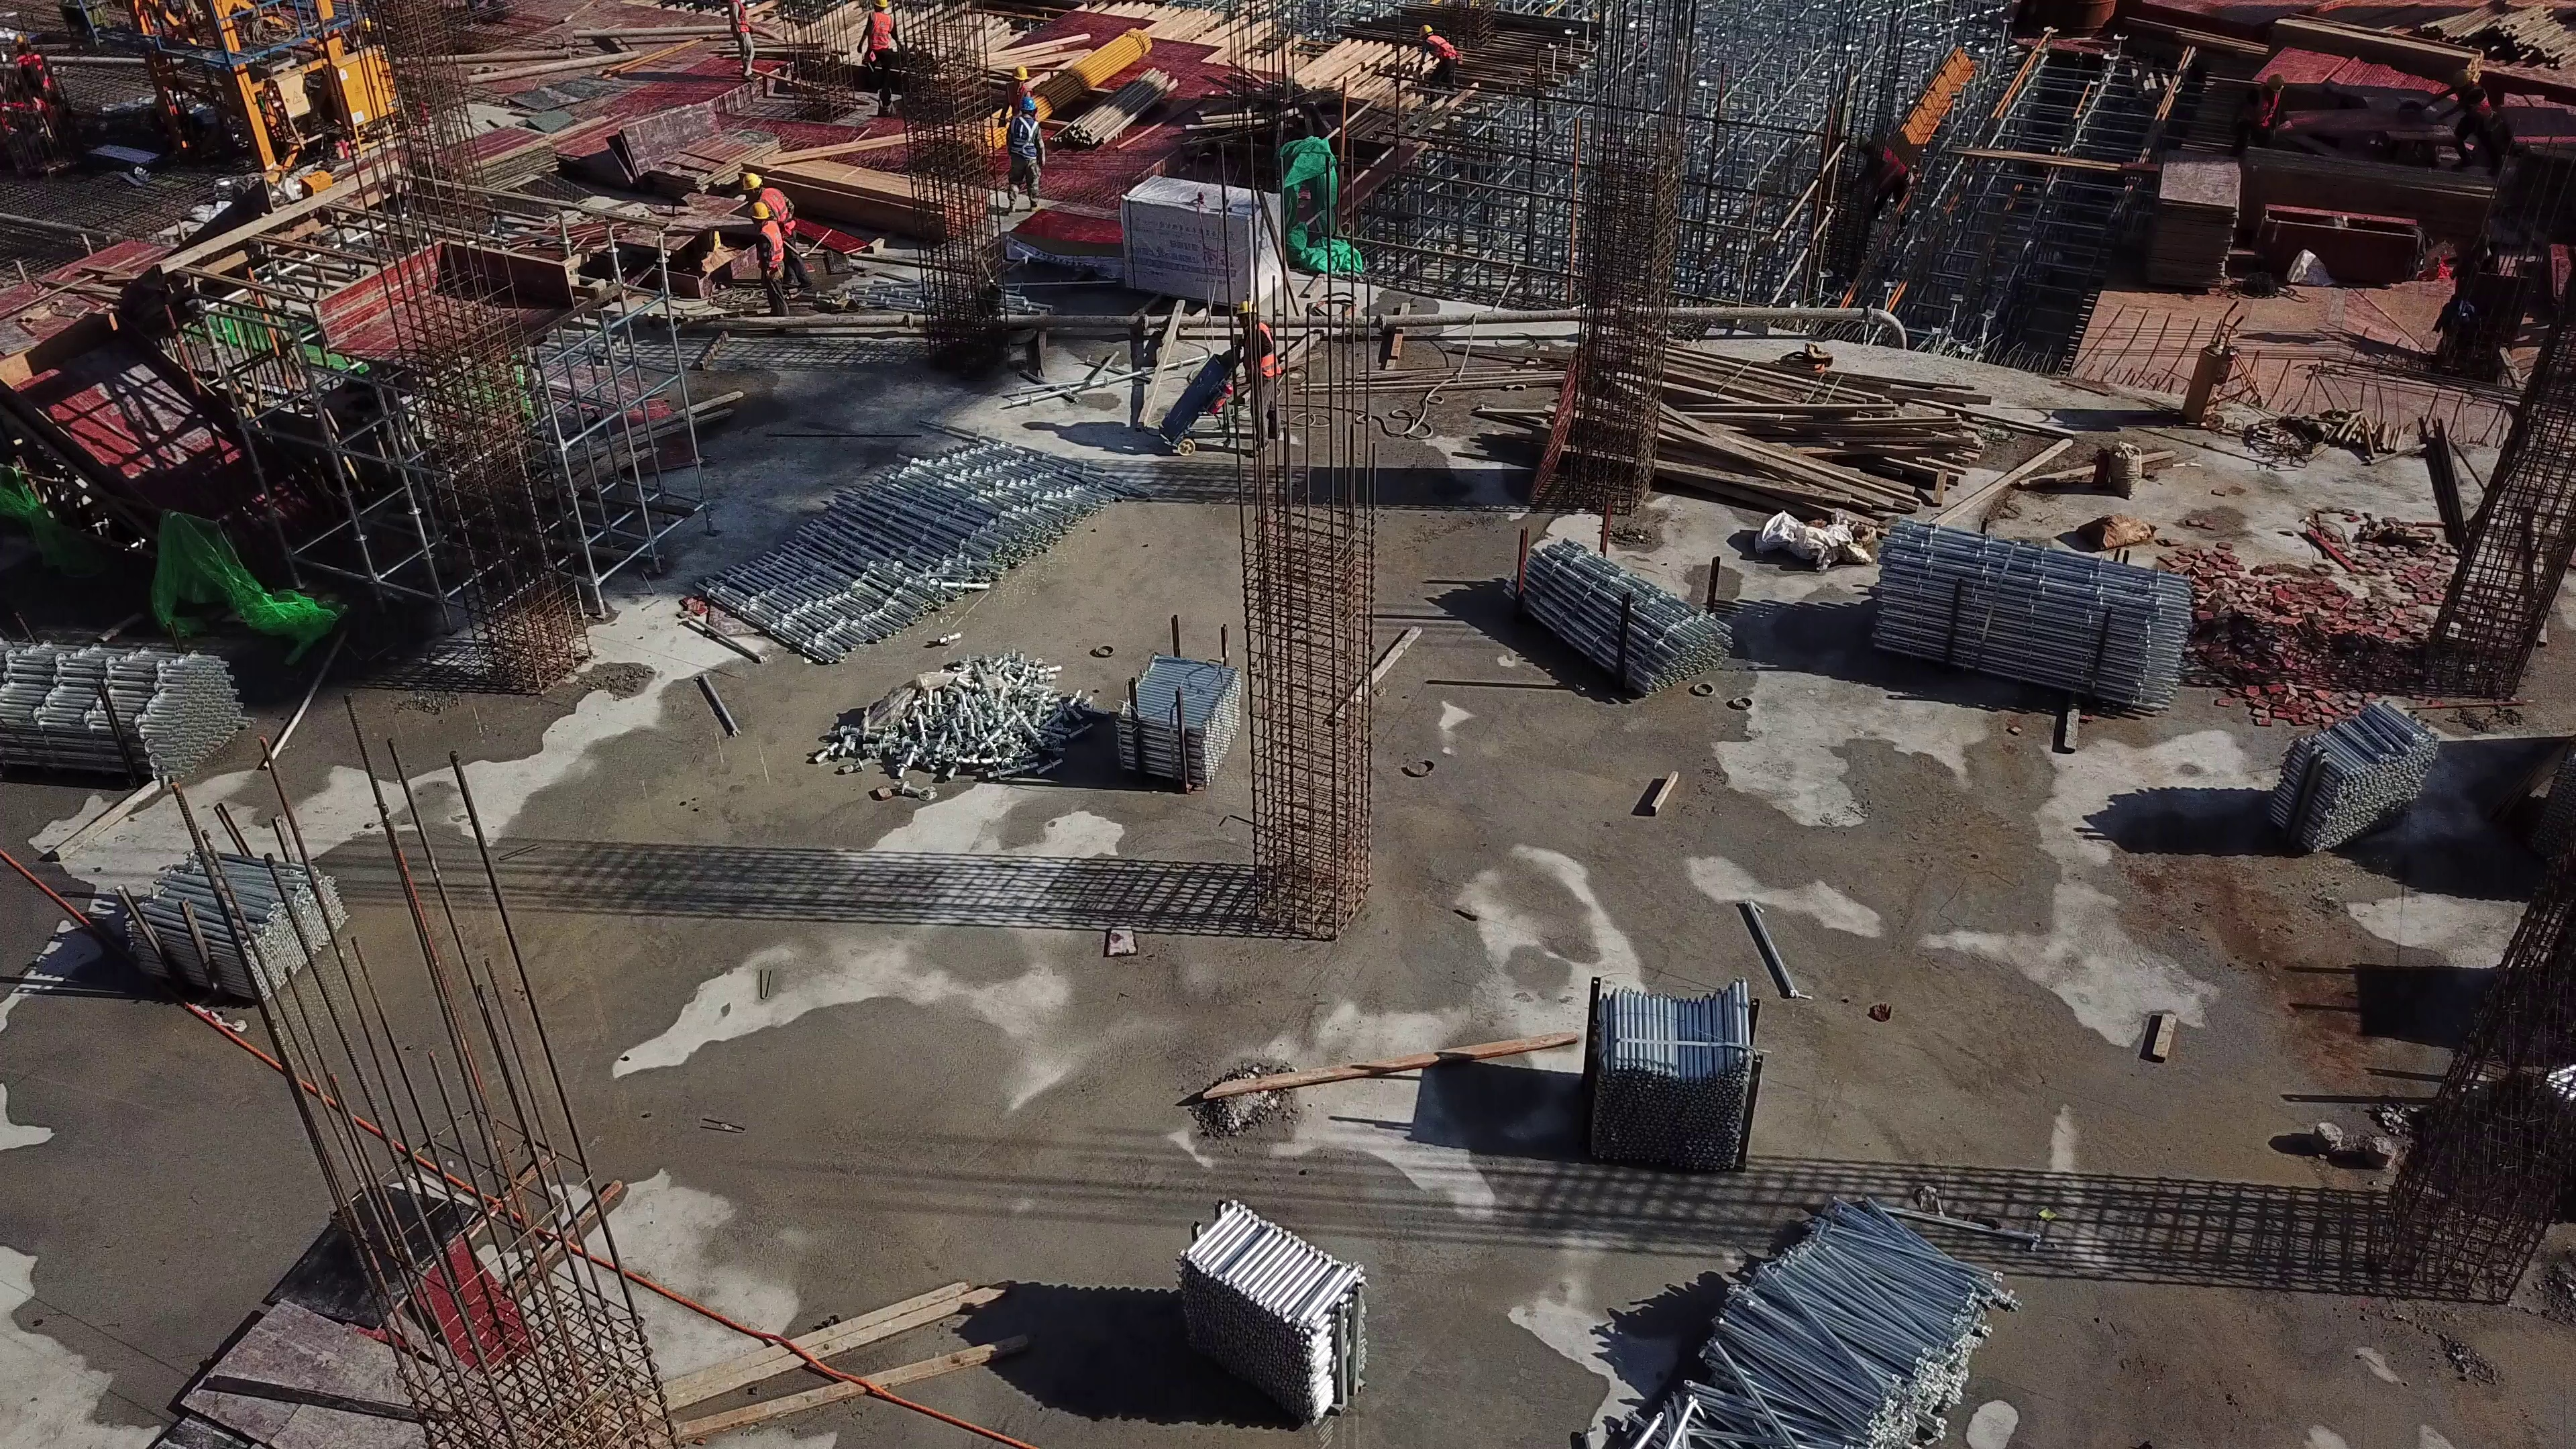board: (2145, 154, 2231, 278), (427, 127, 558, 199), (1014, 209, 1146, 276), (646, 125, 761, 195)
cutter: (658, 201, 759, 279), (2400, 107, 2460, 154)
ebox: (333, 44, 412, 136), (273, 68, 333, 145)
helmet: (747, 199, 771, 223), (743, 166, 763, 191), (1238, 296, 1256, 315), (2265, 74, 2283, 91), (1012, 65, 1028, 80), (1022, 97, 1038, 113), (1417, 23, 1435, 36), (871, 1, 888, 9), (2455, 72, 2467, 87)
person: (743, 168, 808, 287), (1236, 298, 1281, 455), (999, 103, 1042, 212), (746, 201, 786, 316), (2237, 75, 2287, 160), (859, 1, 898, 105), (2436, 72, 2479, 156), (1413, 20, 1454, 83), (1867, 134, 1904, 199), (727, 5, 758, 75), (999, 67, 1037, 121)
scaffold: (702, 413, 1096, 669), (1615, 1204, 2013, 1447), (1862, 501, 2187, 724), (1181, 1193, 1375, 1428), (1508, 543, 1715, 696), (5, 633, 235, 769), (117, 854, 335, 996), (1574, 975, 1748, 1151), (2263, 702, 2434, 858), (1125, 641, 1233, 773)
vest: (1243, 323, 1277, 374), (762, 187, 796, 233), (1011, 115, 1038, 154), (763, 223, 785, 268), (867, 11, 891, 50), (1429, 36, 1457, 59), (734, 4, 750, 37)
wood: (2245, 150, 2488, 223), (763, 150, 966, 232), (2276, 15, 2488, 76)
